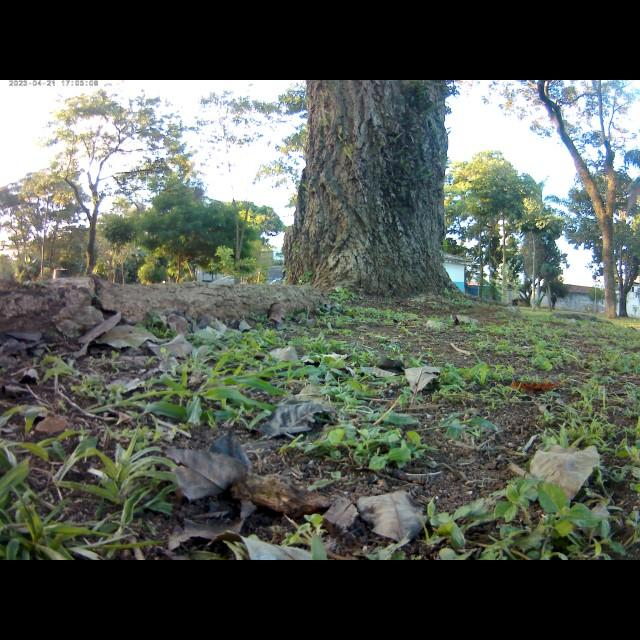arvore: (285, 80, 469, 307)
